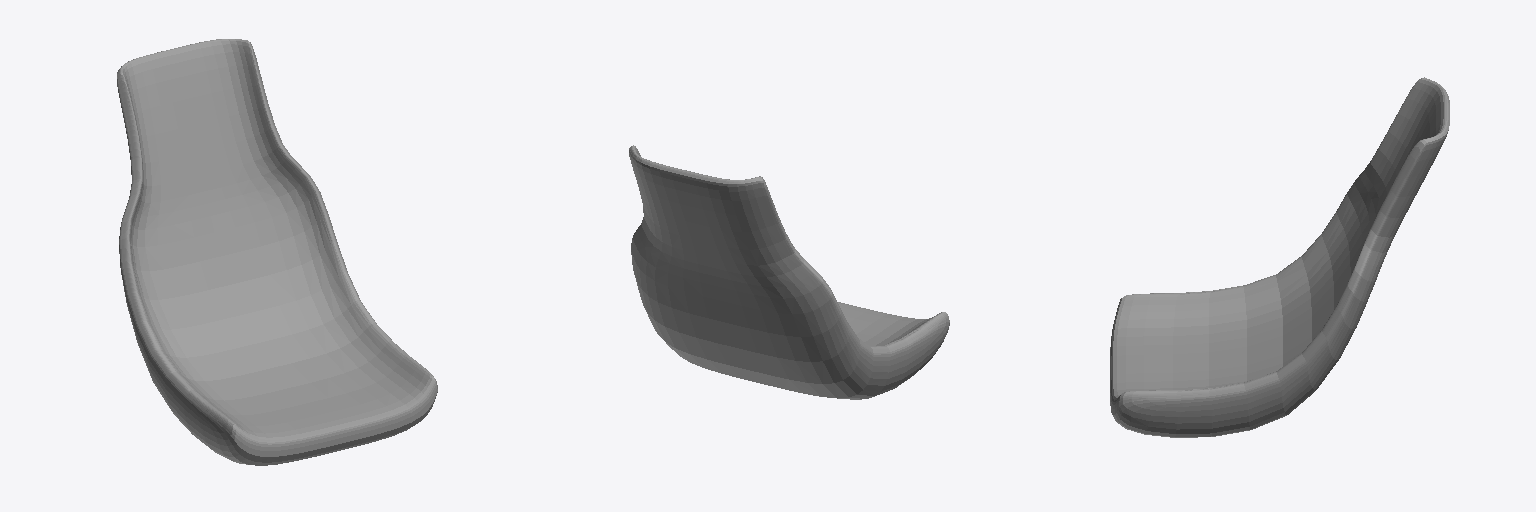
File: Seat.obj
The picture shows the model from 3 angles: view 1: azimuth 30°, elevation 25°; view 2: azimuth 150°, elevation 25°; view 3: azimuth 270°, elevation 25°; orthographic projection.
Visible parts, largest first — view 1: Seat_Plane.002; view 2: Seat_Plane.002; view 3: Seat_Plane.002.
Part boxes in pixels (left/top/right/bottom): Seat_Plane.002: left=117, top=39, right=437, bottom=465; Seat_Plane.002: left=629, top=145, right=949, bottom=399; Seat_Plane.002: left=1110, top=77, right=1449, bottom=437.
Size of the model in its own units: 0.4618 by 0.6121 by 0.6398.